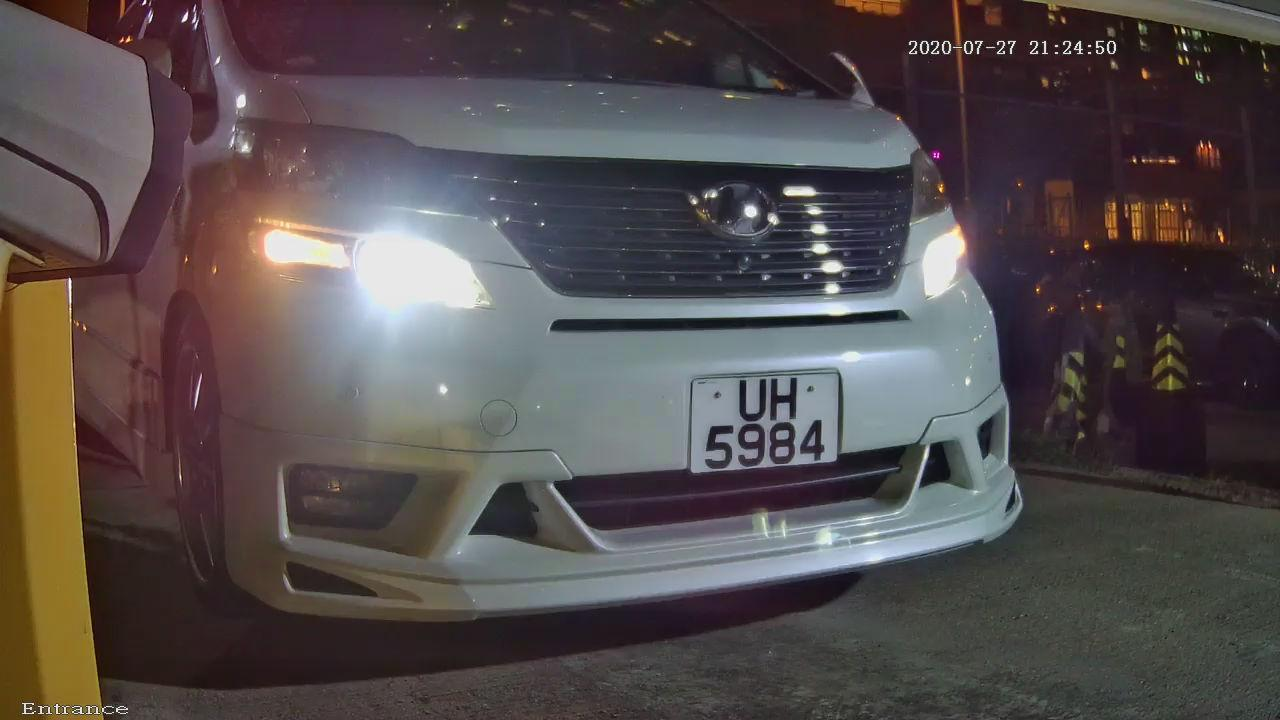privatecar: (143, 4, 1041, 656)
